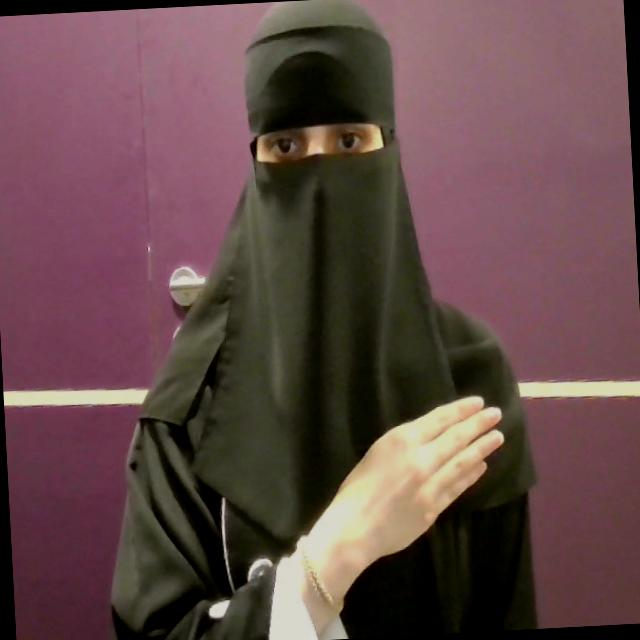result: (302, 390, 516, 592)
